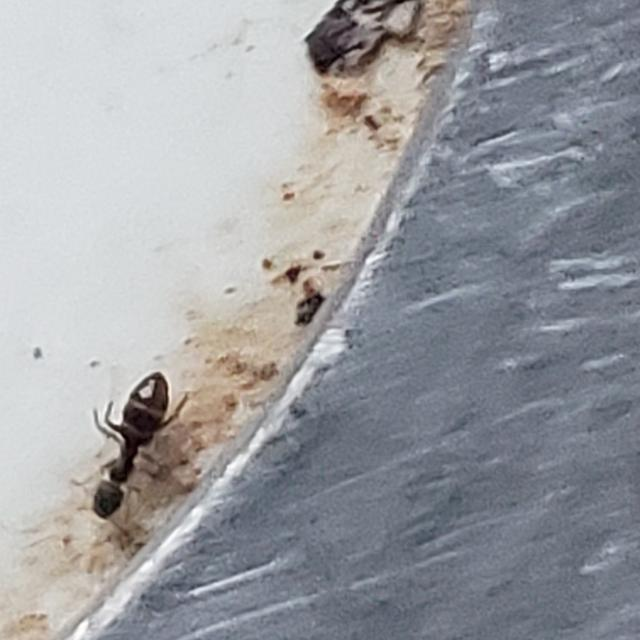Tapinoma: (70, 354, 194, 532)
